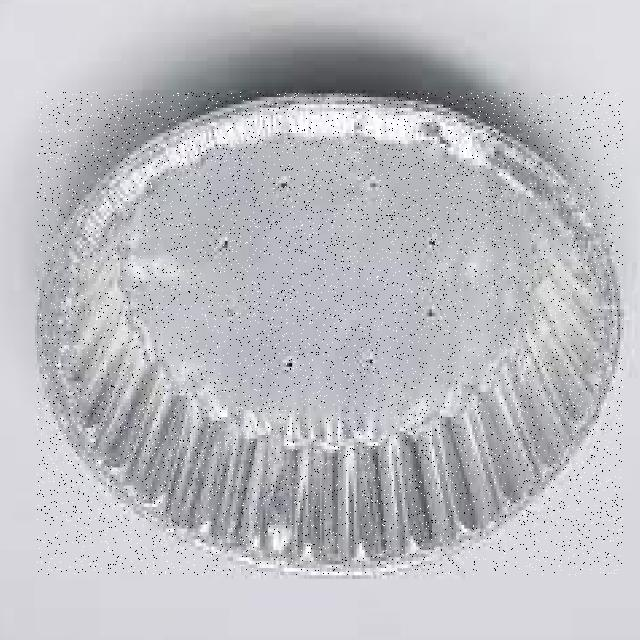metal: (37, 92, 623, 575)
